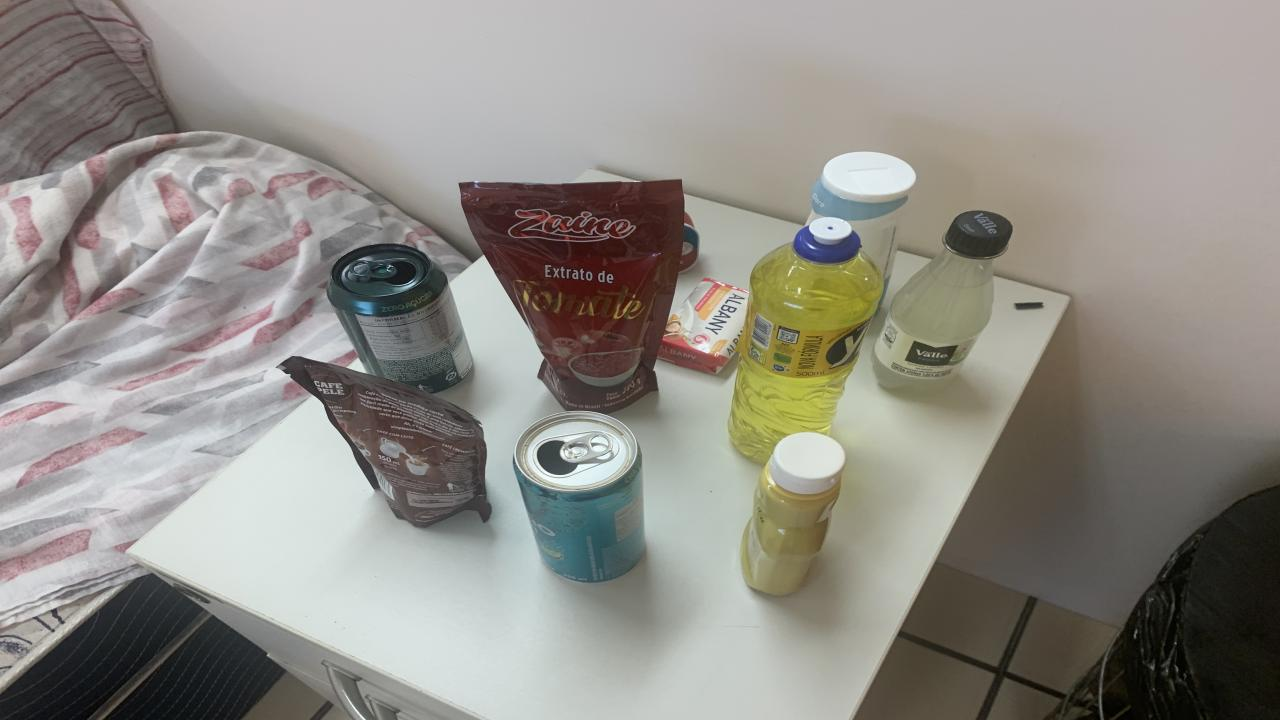Cleaner-Cleanup_Items: (805, 152, 915, 298)
Coffee-Pantry_Items: (280, 356, 492, 527)
Detergent-Cleanup_Items: (728, 218, 882, 463)
Guarana_Can-Drinks: (328, 244, 472, 392)
Mustard-Pantry_Items: (740, 431, 845, 594)
Soap-Cleanup_Items: (658, 278, 748, 373)
Soda-Drinks: (872, 210, 1012, 394)
Tea-Drinks: (515, 411, 645, 583)
Tomato_Sauce-Pantry_Items: (460, 180, 688, 412)
